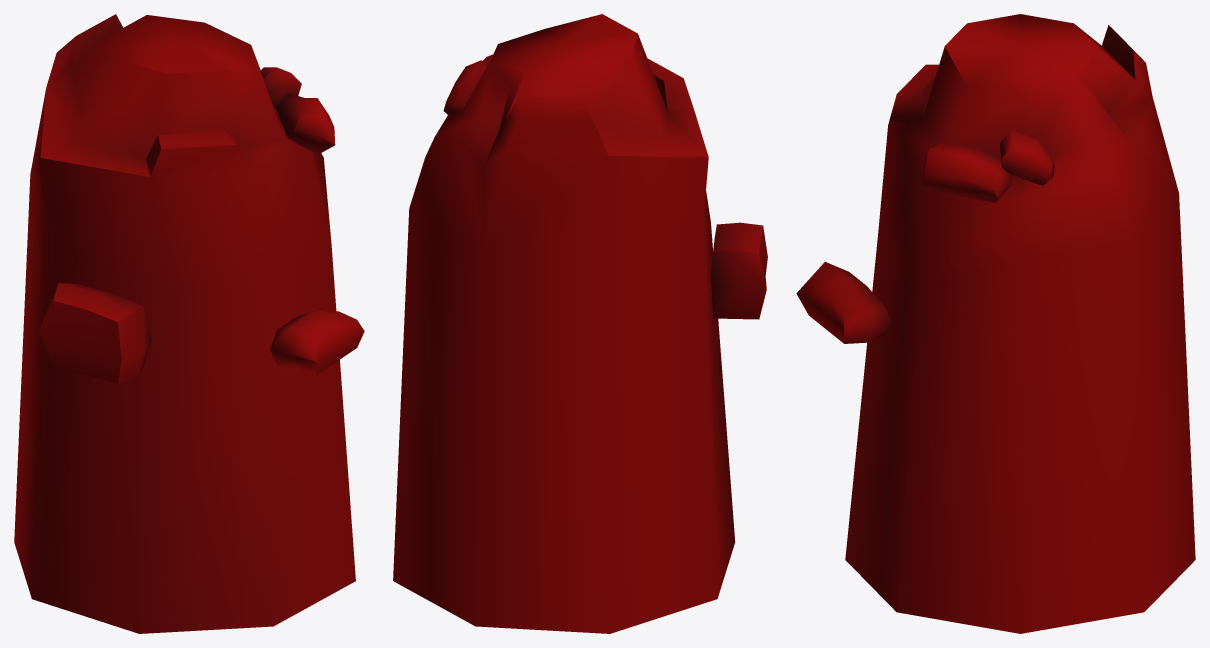
File: buildings-ruins-cathedralruins_v13.fbx
3 renders of one model, left to right at view 1: azimuth 30°, elevation 25°; view 2: azimuth 150°, elevation 25°; view 3: azimuth 270°, elevation 25°, orthographic.
Visible parts, largest first — view 1: CathedralRuins_v13; view 2: CathedralRuins_v13; view 3: CathedralRuins_v13.
Boxes of the visible parts, left/top/right/bottom form: CathedralRuins_v13: left=14, top=14, right=364, bottom=633; CathedralRuins_v13: left=393, top=14, right=767, bottom=633; CathedralRuins_v13: left=796, top=14, right=1195, bottom=633.
Bounding box in the file's own units: 2.16 × 3.28 × 2.31.
